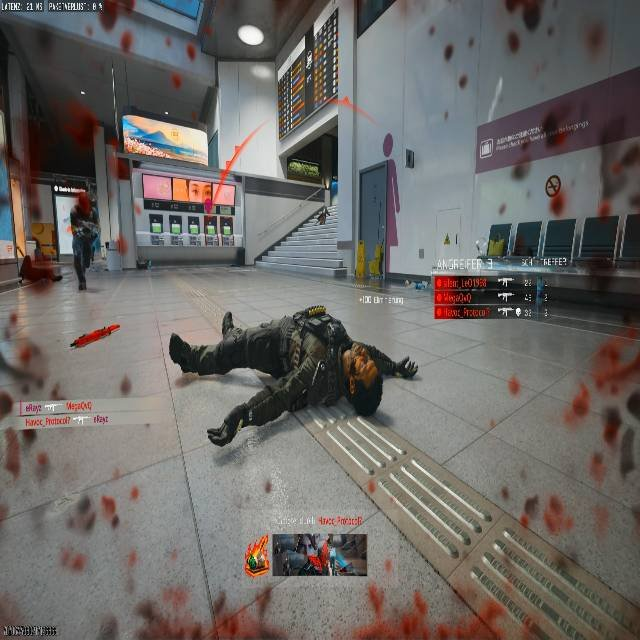head: (341, 357, 384, 417), (76, 192, 91, 210)
player: (67, 192, 100, 292), (474, 238, 485, 259)
